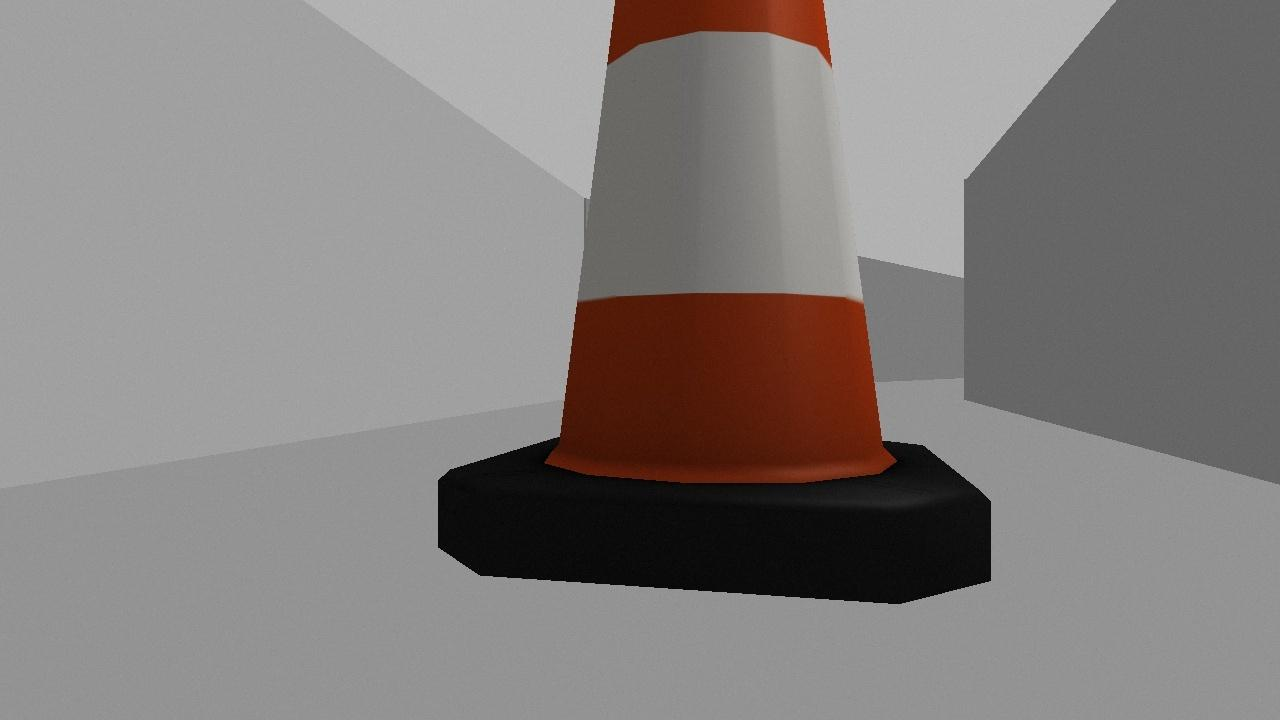cone_barrel: (435, 0, 988, 604)
